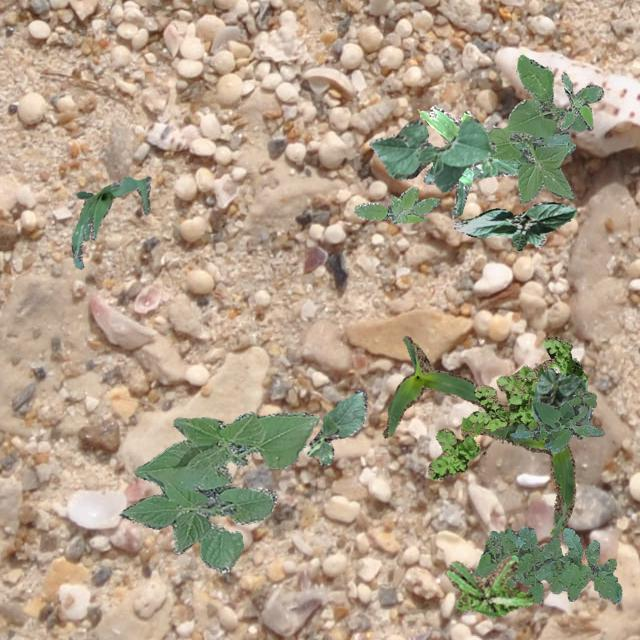crop: (120, 410, 318, 572), (478, 422, 574, 538), (382, 334, 482, 436), (368, 116, 496, 190), (70, 175, 150, 268), (452, 200, 576, 250), (419, 104, 473, 216), (306, 388, 366, 466), (530, 367, 592, 438), (422, 156, 520, 183)
weed: (426, 336, 586, 478), (486, 54, 586, 204), (472, 524, 620, 602), (508, 387, 604, 452), (443, 554, 532, 616), (352, 185, 440, 222), (558, 72, 602, 130)
